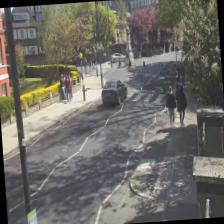person: (174, 81, 188, 126), (164, 85, 177, 130)
